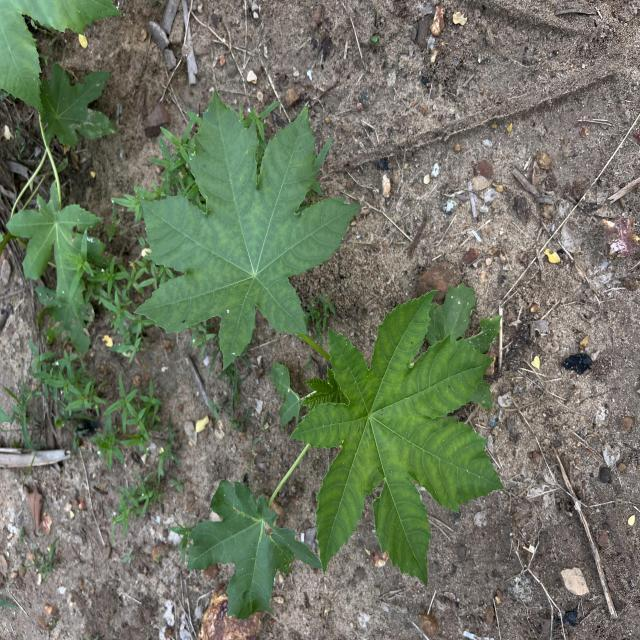Ricinus communis linn: (130, 79, 368, 375), (286, 285, 507, 591)
